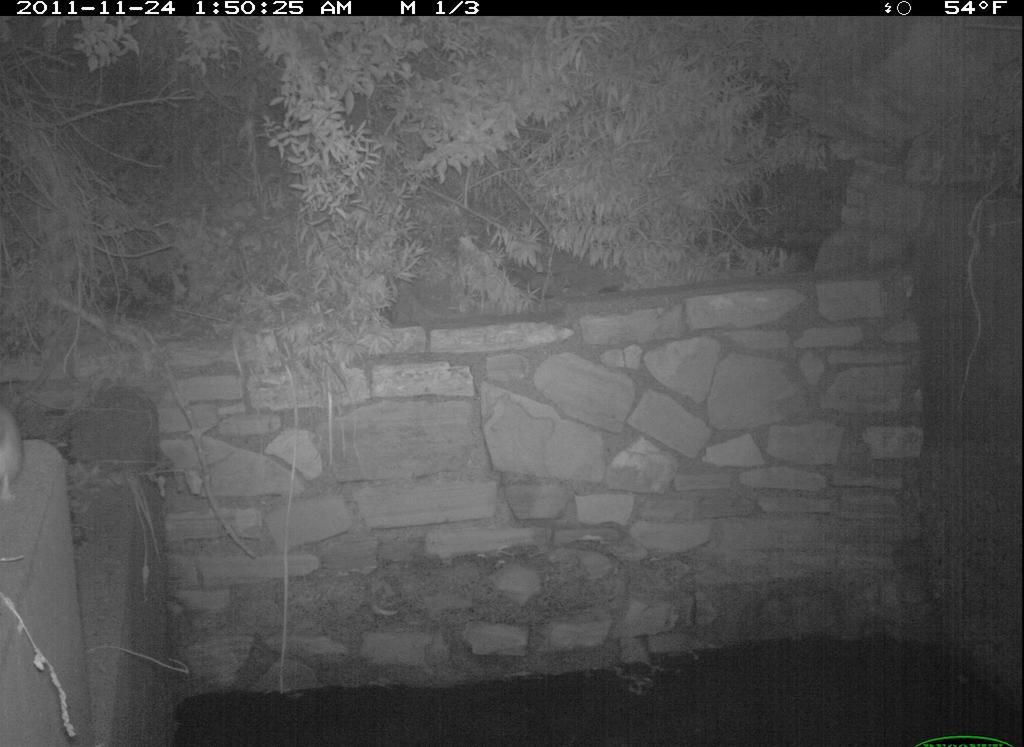rodent: (2, 402, 33, 515)
